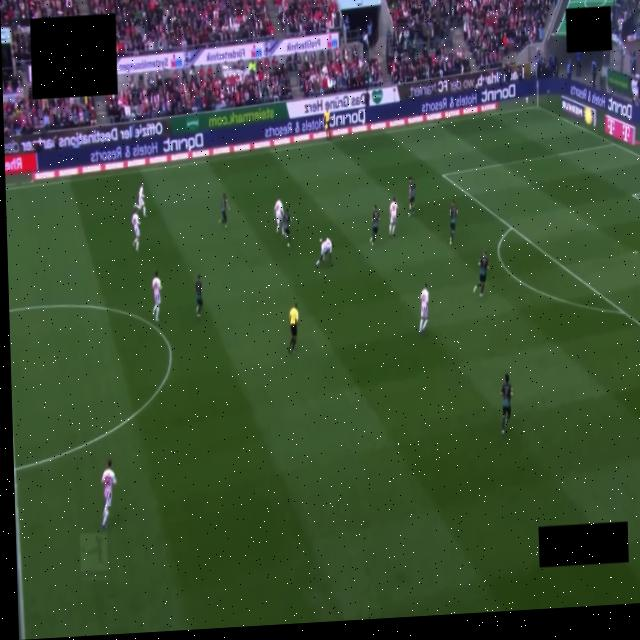player: (101, 459, 116, 529), (500, 374, 512, 435), (473, 251, 488, 296), (418, 283, 428, 335), (448, 200, 459, 245), (315, 237, 331, 266), (152, 271, 161, 321), (388, 197, 398, 236), (218, 193, 229, 227), (135, 182, 145, 217), (131, 207, 139, 250), (282, 209, 291, 246), (370, 205, 378, 244), (274, 198, 283, 232), (195, 276, 202, 317), (408, 177, 415, 216)
referee: (288, 303, 298, 353)
